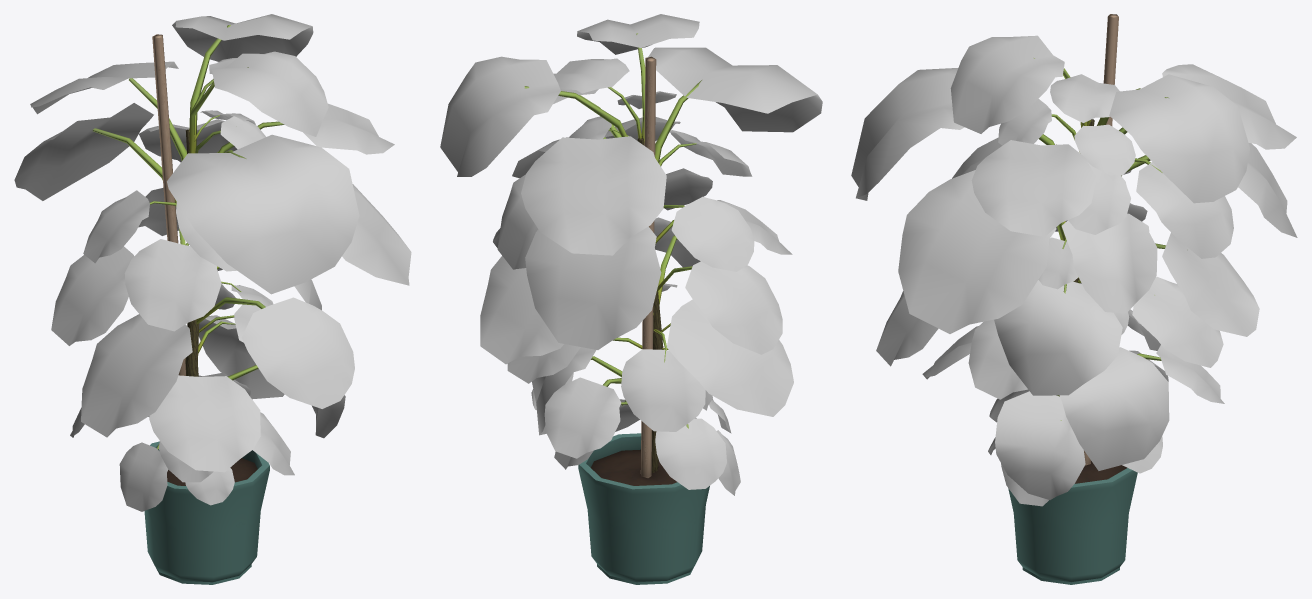
File: huonekasviFBX.fbx
The picture shows the model from 3 angles, left to right: view 1: azimuth 30°, elevation 25°; view 2: azimuth 150°, elevation 25°; view 3: azimuth 270°, elevation 25°; orthographic projection. The views are drawn at different scales.
Parts seen in each view (by area): view 1: lehdet, maljakko; view 2: lehdet, maljakko; view 3: lehdet, maljakko.
Part boxes in pixels (bbox=[...]): lehdet: bbox=[14, 14, 411, 511]; maljakko: bbox=[92, 25, 284, 584]; lehdet: bbox=[440, 14, 822, 495]; maljakko: bbox=[524, 33, 709, 584]; lehdet: bbox=[851, 35, 1297, 506]; maljakko: bbox=[1008, 14, 1168, 584].
Bounding box in the file's own units: 29.58 × 49.56 × 37.42.
